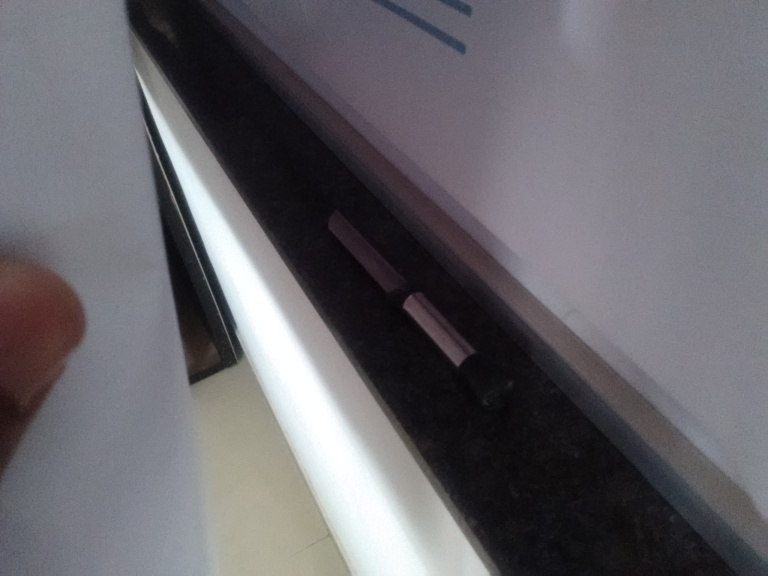knife: (326, 204, 518, 408)
